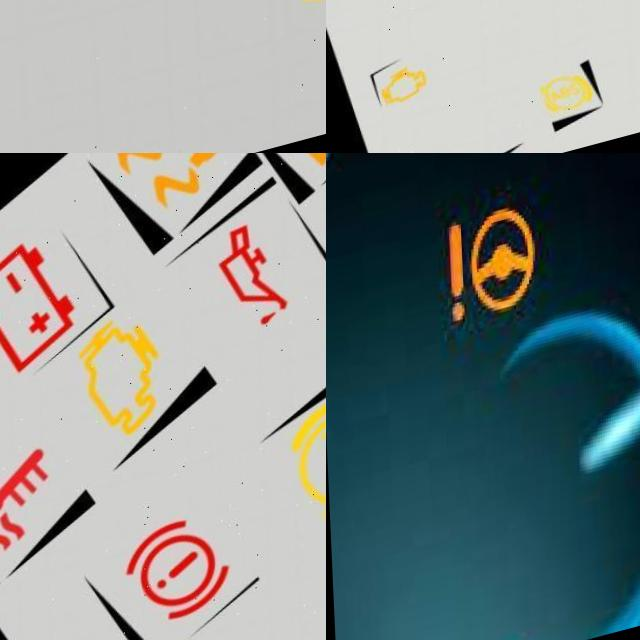Electronic Power Steering: (432, 199, 541, 351)
